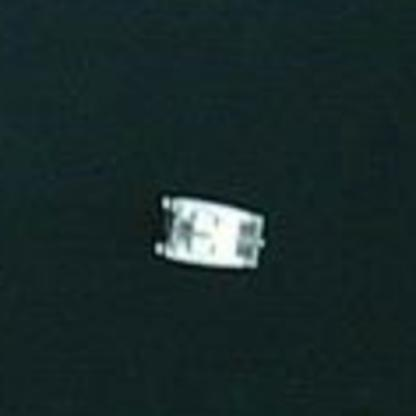ship: (138, 184, 276, 278)
